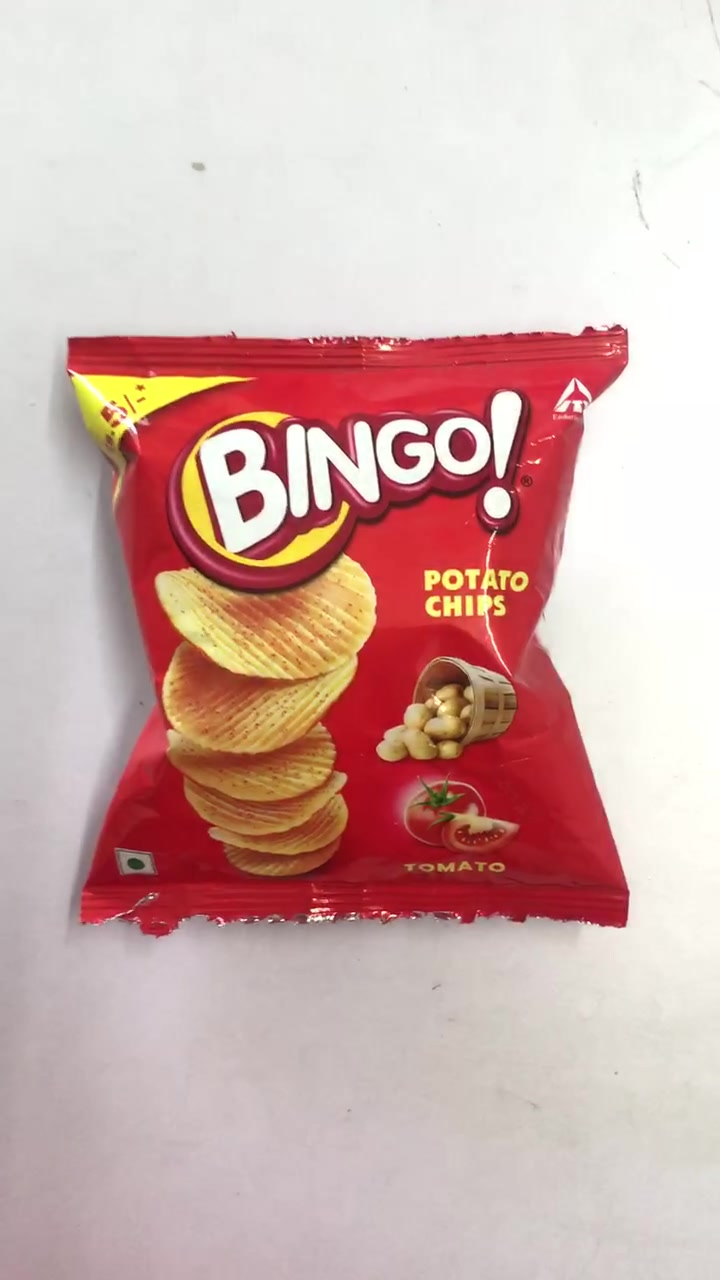Bingo: (66, 338, 631, 923)
